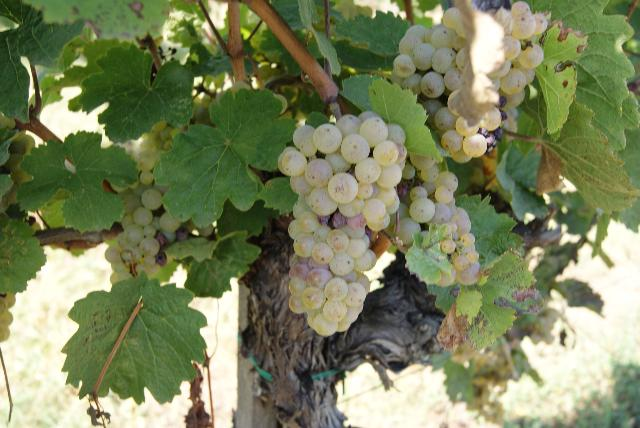grapes: (278, 115, 400, 336), (390, 0, 549, 156), (399, 154, 481, 288)
